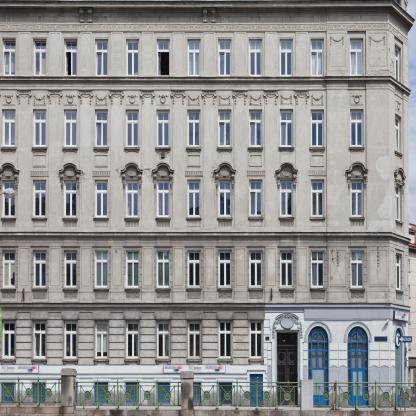Building Outline: (0, 0, 415, 408)
Cornice: (272, 313, 303, 339), (344, 321, 372, 343), (275, 163, 298, 189), (346, 162, 369, 188), (121, 162, 143, 188), (152, 162, 174, 188), (214, 162, 236, 188), (305, 321, 332, 342), (59, 163, 81, 188), (0, 163, 19, 188), (247, 312, 265, 319), (0, 312, 18, 319), (62, 312, 80, 319), (93, 312, 111, 319), (124, 312, 142, 319), (154, 312, 172, 319), (185, 312, 203, 319), (216, 312, 234, 319), (30, 312, 48, 319), (30, 170, 49, 176), (308, 170, 327, 176), (247, 170, 265, 176), (185, 170, 203, 176), (92, 170, 110, 176)
Deco: (369, 35, 386, 46), (330, 35, 344, 45), (250, 94, 262, 105), (95, 94, 107, 104), (188, 94, 200, 104), (219, 94, 231, 104), (281, 94, 293, 104), (311, 94, 323, 104), (351, 94, 362, 104), (3, 94, 14, 104), (34, 94, 45, 104), (65, 94, 76, 104), (127, 94, 138, 104), (158, 94, 168, 104), (311, 292, 325, 299), (33, 292, 47, 299), (156, 292, 170, 299), (218, 292, 232, 299), (249, 292, 263, 299), (280, 292, 294, 299), (351, 292, 364, 299), (2, 292, 15, 299), (64, 292, 77, 299), (95, 292, 108, 299), (126, 292, 139, 299), (188, 292, 201, 299), (33, 222, 46, 227), (95, 222, 108, 227), (351, 221, 364, 226), (126, 222, 139, 227), (188, 222, 201, 227), (219, 221, 232, 226), (250, 221, 263, 226), (281, 221, 294, 226), (311, 221, 324, 226), (157, 222, 170, 227), (64, 222, 77, 227), (2, 222, 15, 227)
Door: (277, 345, 298, 406)
Facade: (1, 6, 391, 407)
Floor: (0, 85, 391, 160), (0, 160, 391, 235), (0, 235, 391, 307)
Floor Slab: (0, 302, 391, 307), (0, 231, 391, 236), (0, 156, 391, 161), (0, 80, 391, 85)
Ground Floor: (0, 307, 391, 406)
Molding: (0, 8, 410, 40), (0, 23, 408, 45)
Pillar: (108, 89, 125, 228), (139, 89, 156, 228), (170, 89, 187, 228), (201, 89, 218, 228), (47, 89, 64, 227), (294, 89, 310, 228), (78, 89, 94, 228), (232, 89, 248, 228), (263, 89, 279, 228), (16, 89, 32, 227)
Sill: (248, 359, 264, 365), (0, 359, 16, 365), (31, 359, 47, 365), (62, 359, 78, 365), (93, 359, 109, 365), (124, 359, 140, 365), (155, 359, 171, 365), (186, 359, 202, 365), (217, 359, 233, 365), (349, 147, 365, 152), (1, 147, 17, 152), (32, 147, 48, 152), (62, 147, 78, 152), (93, 147, 109, 152), (124, 147, 140, 152), (155, 147, 171, 152), (186, 147, 202, 152), (217, 147, 233, 152), (248, 147, 264, 152), (279, 147, 295, 152), (309, 147, 325, 152), (0, 288, 17, 292), (278, 217, 295, 221), (309, 217, 326, 221), (349, 217, 366, 221), (349, 288, 366, 292), (186, 288, 203, 292), (155, 288, 172, 292), (124, 288, 141, 292), (62, 288, 79, 292), (31, 288, 48, 292), (186, 217, 202, 221), (217, 217, 233, 221), (310, 288, 326, 292), (279, 288, 295, 292), (248, 288, 264, 292), (217, 288, 233, 292), (32, 217, 47, 221), (62, 218, 79, 221), (93, 288, 110, 291), (1, 218, 17, 221), (93, 218, 109, 221), (124, 218, 140, 221), (155, 218, 171, 221), (248, 217, 264, 220)
Top Floor: (0, 13, 391, 85)
Window: (347, 326, 369, 406), (308, 326, 329, 406), (350, 109, 364, 147), (156, 180, 170, 218), (280, 250, 294, 288), (218, 250, 232, 288), (187, 250, 201, 288), (64, 39, 78, 76), (125, 180, 139, 217), (3, 109, 16, 147), (33, 109, 46, 147), (64, 109, 77, 147), (95, 109, 108, 147), (280, 109, 293, 147), (311, 109, 324, 147), (350, 38, 363, 76), (3, 38, 16, 76), (34, 38, 47, 76), (311, 38, 324, 76), (64, 180, 77, 218), (95, 180, 108, 218), (250, 179, 263, 217), (311, 180, 324, 218), (351, 179, 364, 217), (351, 250, 364, 288), (312, 250, 325, 288), (250, 250, 263, 288), (157, 250, 170, 288), (126, 250, 139, 288), (95, 250, 108, 288), (64, 250, 77, 288), (3, 250, 16, 288), (33, 250, 46, 288), (2, 321, 15, 359), (95, 321, 108, 359), (33, 321, 46, 359), (64, 321, 77, 359), (126, 321, 139, 359), (250, 321, 263, 359), (157, 321, 170, 359), (188, 321, 201, 359), (219, 321, 232, 359), (126, 110, 139, 147), (157, 110, 170, 147), (188, 110, 201, 147), (219, 110, 232, 147), (249, 110, 262, 147), (95, 39, 108, 76), (126, 39, 139, 76), (157, 39, 170, 76), (188, 39, 201, 76), (219, 39, 232, 76), (249, 39, 262, 76), (280, 39, 293, 76), (2, 180, 15, 217), (33, 180, 46, 217), (188, 180, 201, 217), (219, 180, 232, 217), (280, 180, 293, 217), (250, 374, 263, 407), (219, 383, 232, 406), (63, 383, 77, 404), (94, 383, 108, 404), (187, 383, 201, 404), (1, 383, 14, 404), (32, 383, 45, 404), (126, 383, 139, 404), (157, 383, 170, 404), (277, 333, 298, 345)
dont: (0, 368, 416, 410), (0, 188, 14, 199), (398, 336, 412, 343)
